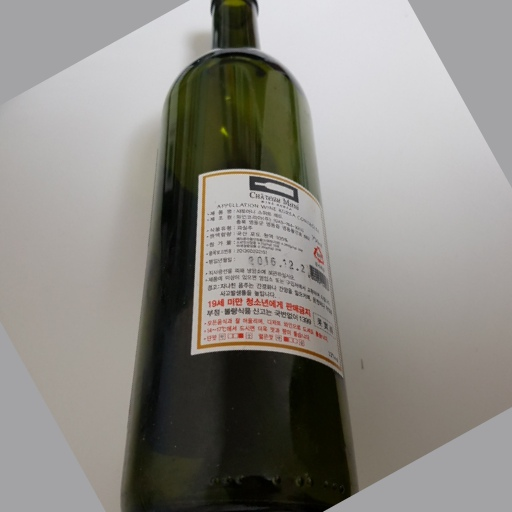Glass_2: (122, 1, 351, 512)
